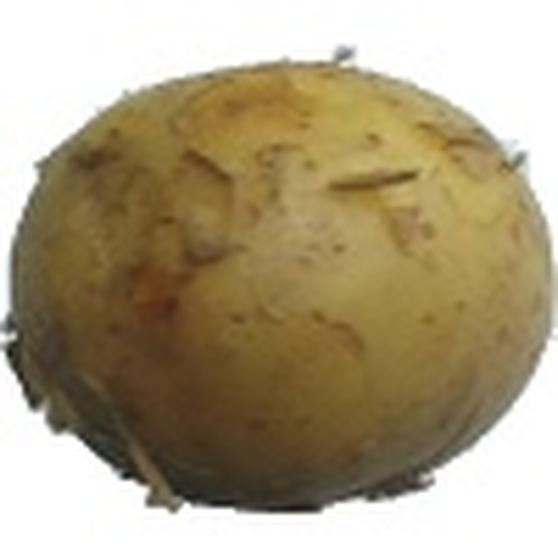potato: (6, 56, 553, 517)
